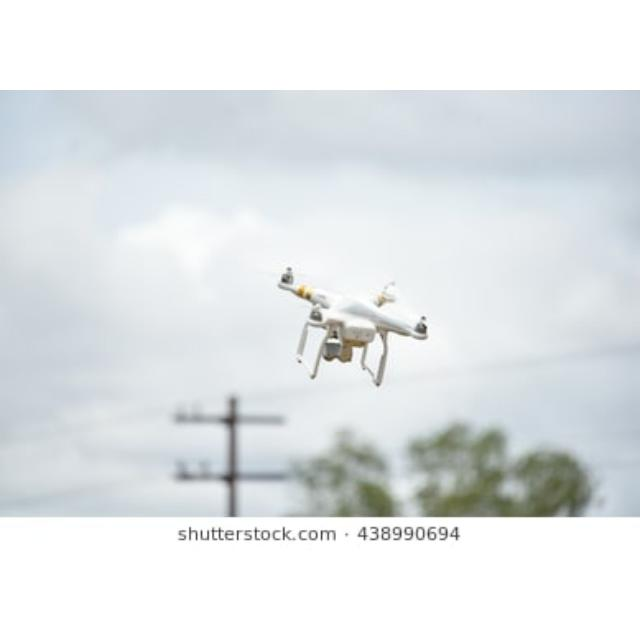Drones: (260, 261, 446, 395)
